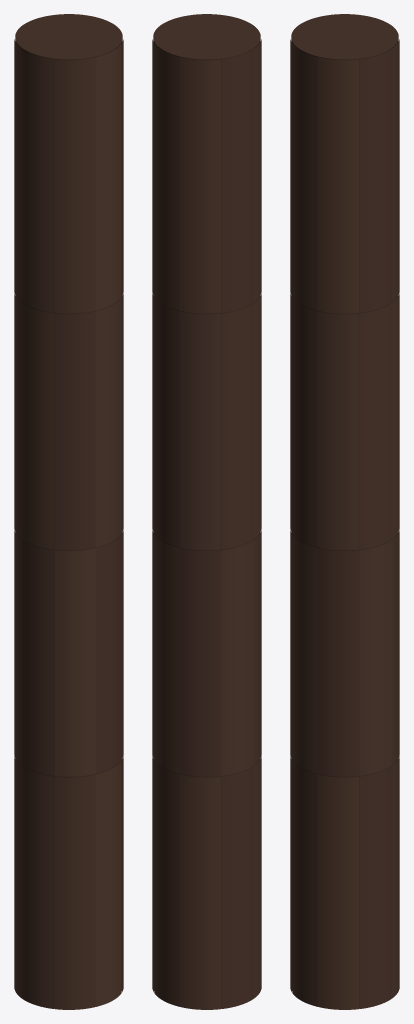
The model's file is column.glb.
3 renders of one model, left to right at view 1: azimuth 30°, elevation 25°; view 2: azimuth 150°, elevation 25°; view 3: azimuth 330°, elevation 25°, orthographic.
Parts seen in each view (by area): view 1: column; view 2: column; view 3: column.
Part boxes in pixels (box(x1,y1,x2,y2)): column: box(14, 14, 123, 1009); column: box(152, 14, 261, 1009); column: box(290, 14, 399, 1009).
Size of the model in its own units: 1.14 by 10.95 by 1.14.
